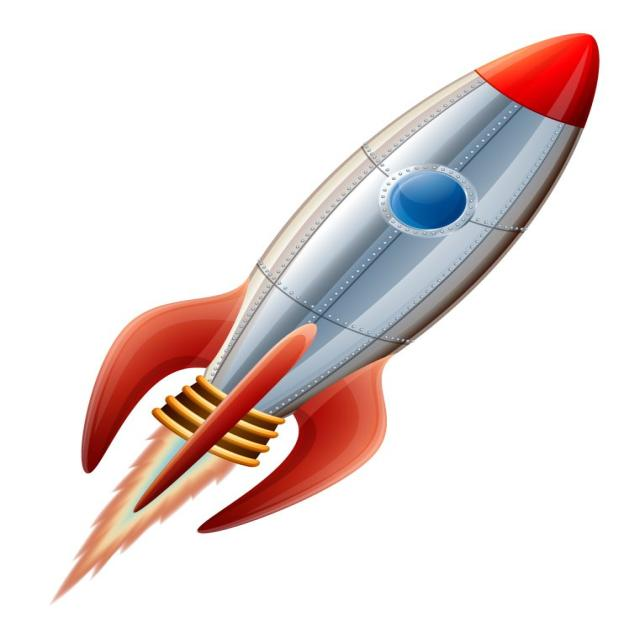medium_debris: (57, 414, 236, 602)
rocket: (62, 18, 607, 543)
